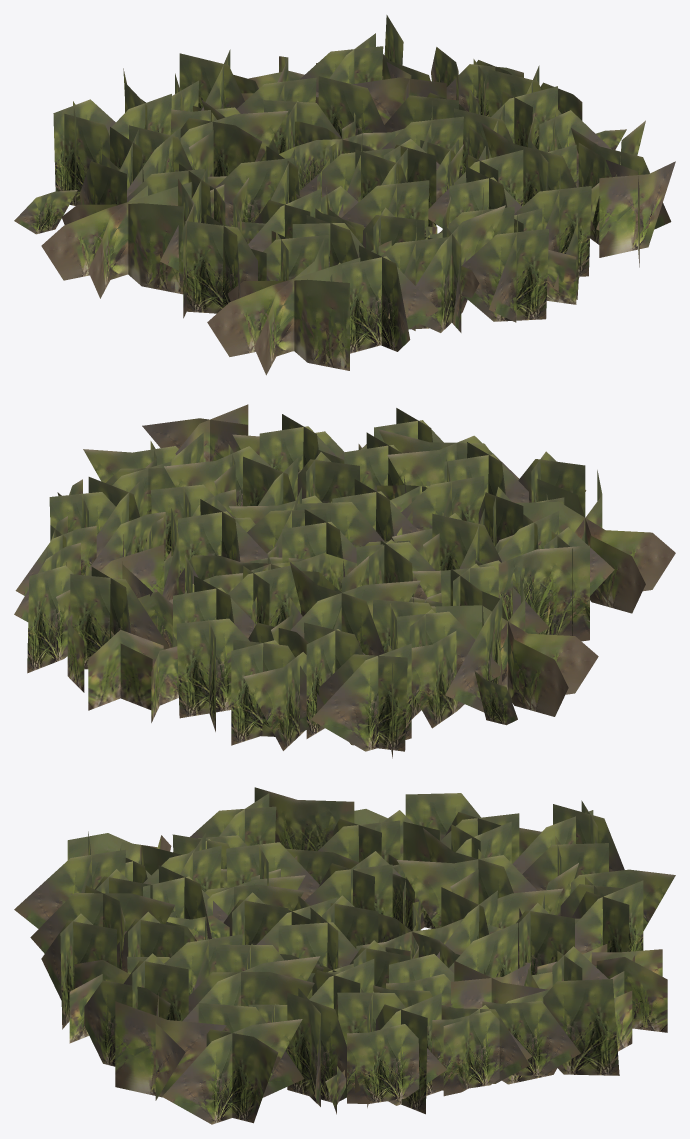
Rendered from sm10_038_roadplant01a_small.fbx.
The picture shows the model from 3 angles, top to bottom: view 1: azimuth 30°, elevation 25°; view 2: azimuth 150°, elevation 25°; view 3: azimuth 270°, elevation 25°; orthographic projection. The views are drawn at different scales.
Visible parts, largest first — view 1: LOD_1_Group_0_Sub_1__st1_plant01_Mat_Env_AlphaTest; view 2: LOD_1_Group_0_Sub_1__st1_plant01_Mat_Env_AlphaTest; view 3: LOD_1_Group_0_Sub_1__st1_plant01_Mat_Env_AlphaTest.
Part boxes in pixels (<box>): LOD_1_Group_0_Sub_1__st1_plant01_Mat_Env_AlphaTest: <box>14,15,675,375</box>; LOD_1_Group_0_Sub_1__st1_plant01_Mat_Env_AlphaTest: <box>14,404,675,758</box>; LOD_1_Group_0_Sub_1__st1_plant01_Mat_Env_AlphaTest: <box>14,787,675,1124</box>.
Bounding box in the file's own units: 3.02 × 0.5985 × 2.99.
